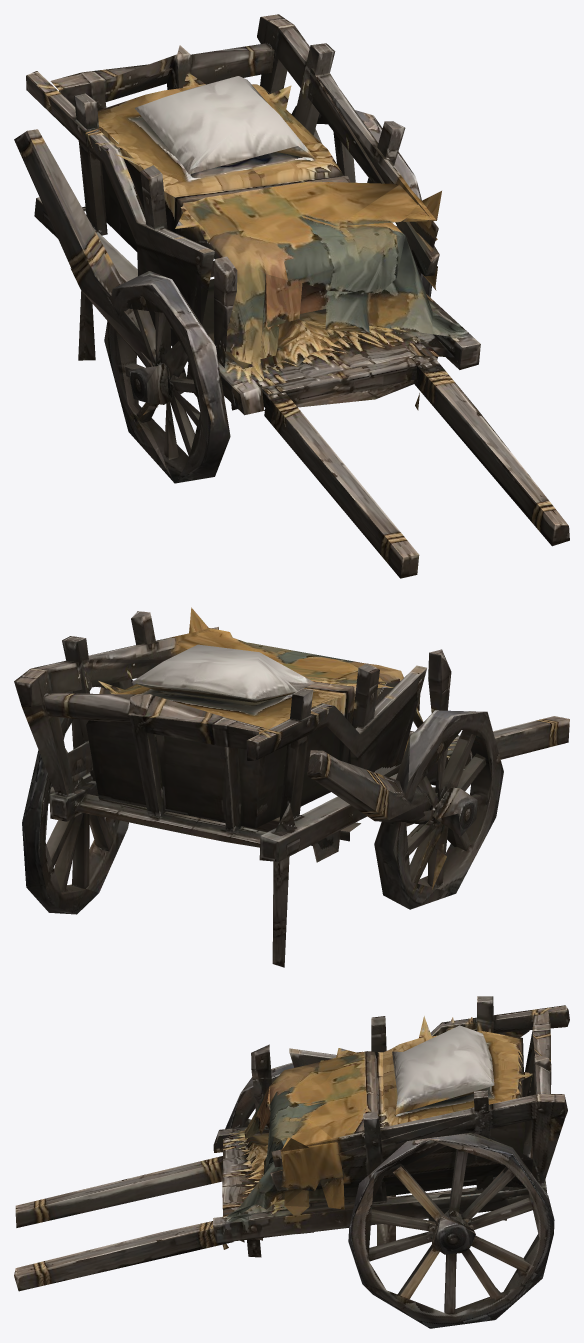
Rendered from act1_extras_v1_ox_cart.glb.
The picture shows the model from 3 angles, top to bottom: view 1: azimuth 30°, elevation 25°; view 2: azimuth 150°, elevation 25°; view 3: azimuth 270°, elevation 25°; orthographic projection. The views are drawn at different scales.
Visible parts, largest first — view 1: A18_1_ox_cart; view 2: A18_1_ox_cart; view 3: A18_1_ox_cart.
Boxes of the visible parts, left/top/right/bottom form: A18_1_ox_cart: left=14, top=14, right=569, bottom=578; A18_1_ox_cart: left=14, top=607, right=569, bottom=967; A18_1_ox_cart: left=14, top=996, right=569, bottom=1328.
Size of the model in its own units: 0.5537 by 0.4585 by 0.9995.
Materials: 1 (1 with a texture image).
